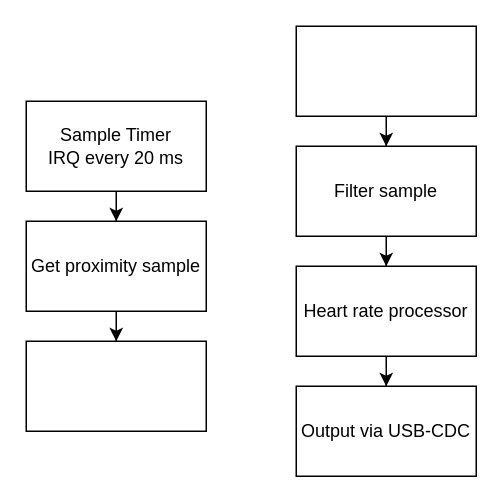
Some shapes in this 503 by 503 pixel diagram are drawn without their labels. Here are the shapes that lost their labels. From the top down, the centre of each, then its label:
At [385,70]: "Get sample from queue".
At [115,385]: "Samples queue".
